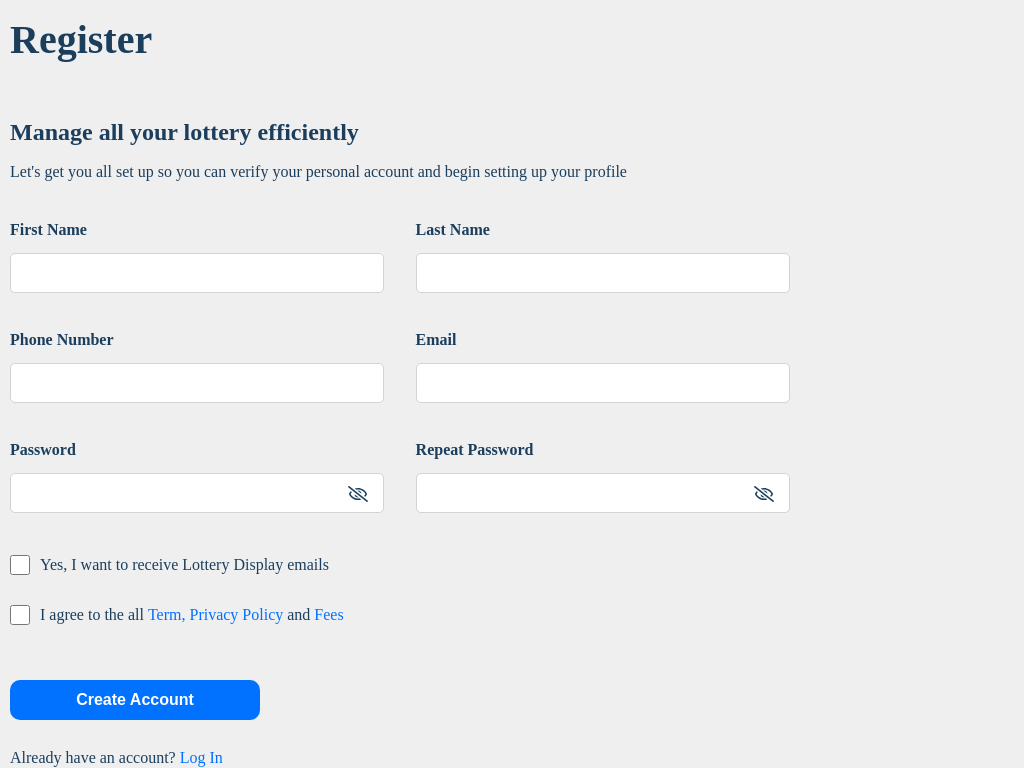
Scenario: registration-form tests › actions tests › should show an error if you uncheck required checkbox
Click the checkbox with id "accept-terms": [20, 615] box [10,605,30,625]
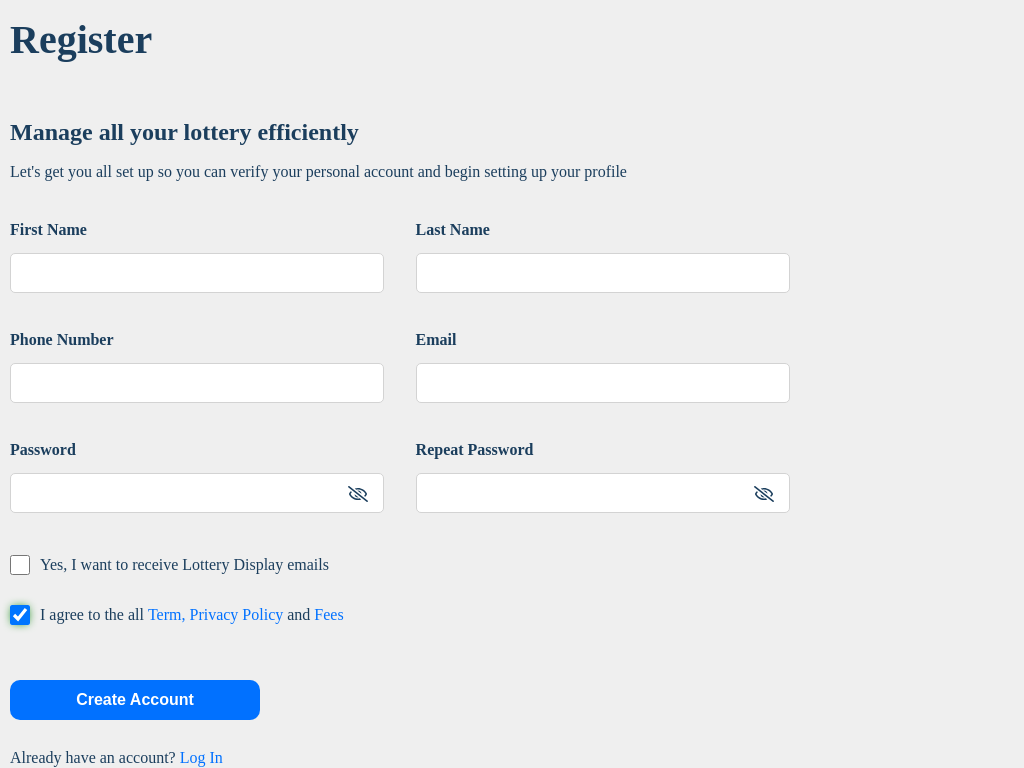
Click the checkbox with id "accept-terms": [20, 615] box [10,605,30,625]
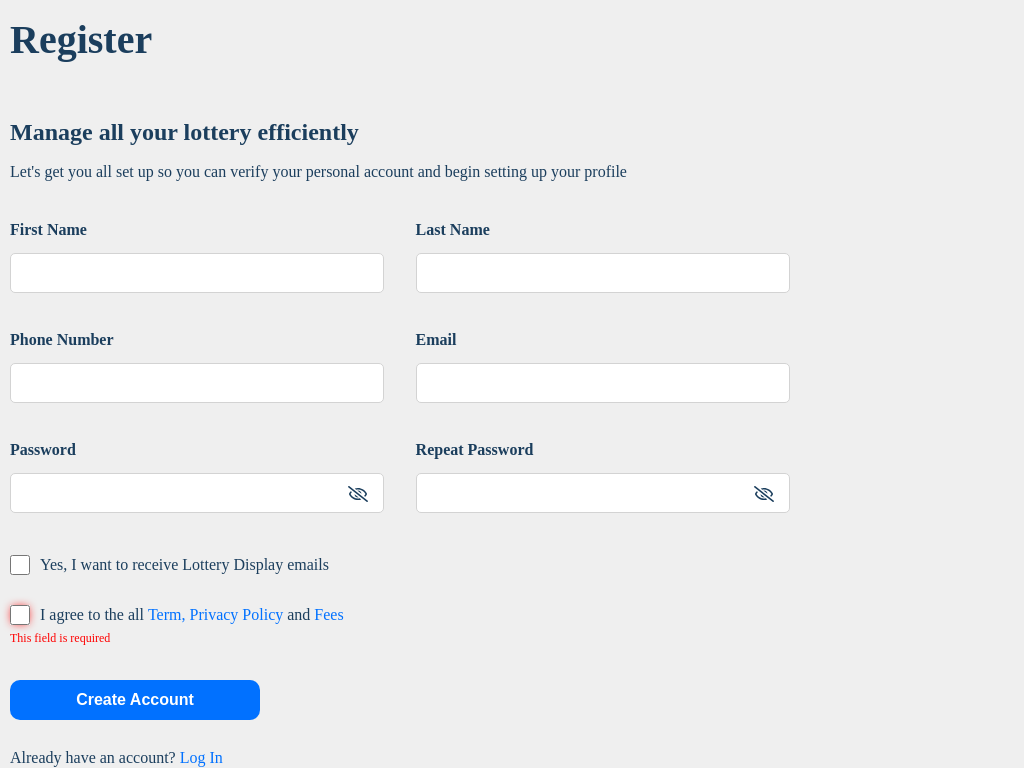
Result: the text "This field is required" is shown at [10,632,110,644]
Result: the text with class "checkbox-input__error" reads "This field is required" at [10,631,110,645]
